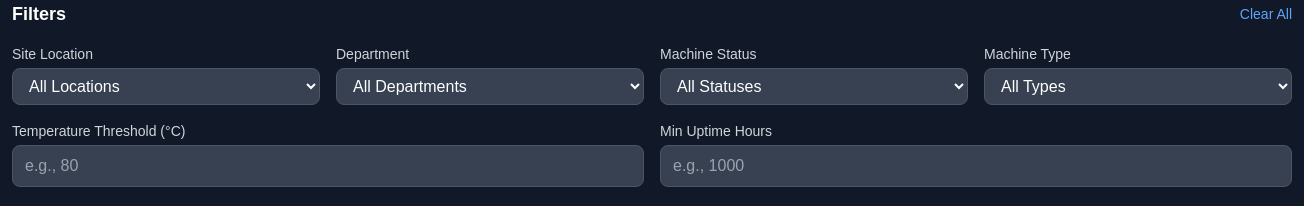
Test: FilterPanel Component › should clear all filters when Clear All is clicked
# Set some filter values first
Step 1. Select "Montreal, QC" in the dropdown labelled "Site Location" → x=166, y=86, box [12, 68, 320, 105]
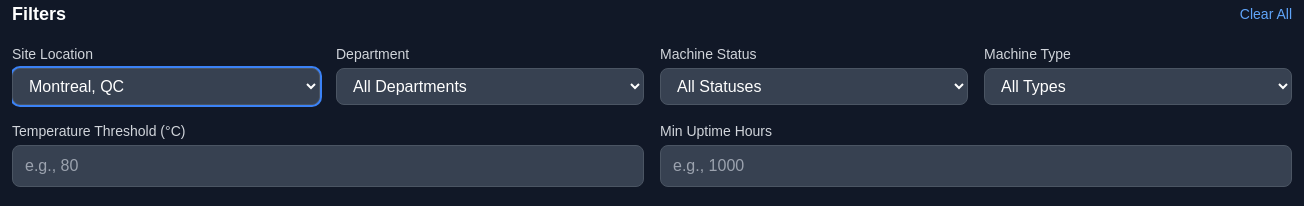
Step 2. Type "80" into the number field labelled "Temperature Threshold (°C)" → x=328, y=166, box [12, 145, 644, 187]
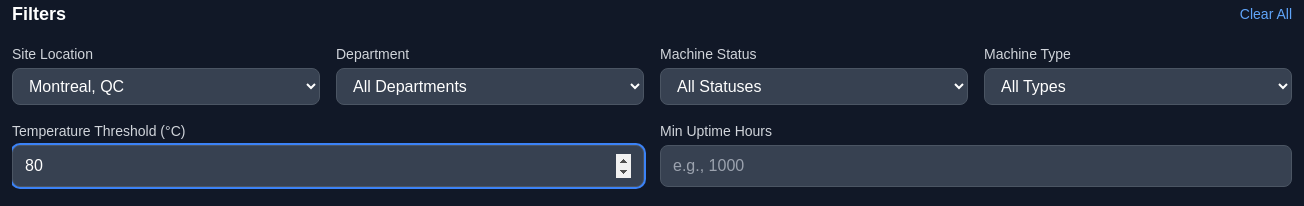
# Click clear all
Step 3. Click the button "Clear All" → x=1266, y=14, box [1240, 4, 1292, 24]
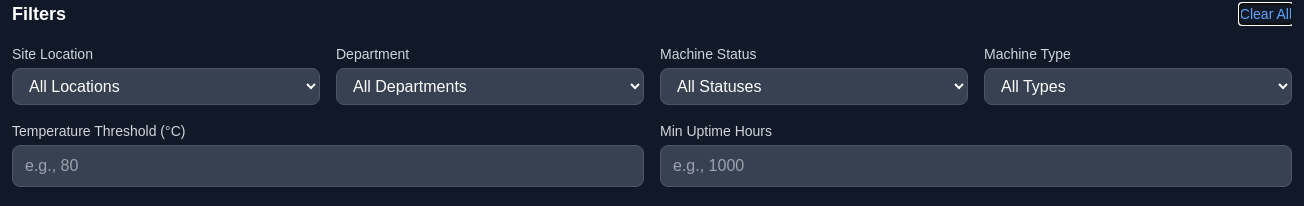
Expected: the number field labelled "Temperature Threshold (°C)" is not empty, [12, 145, 644, 187]
